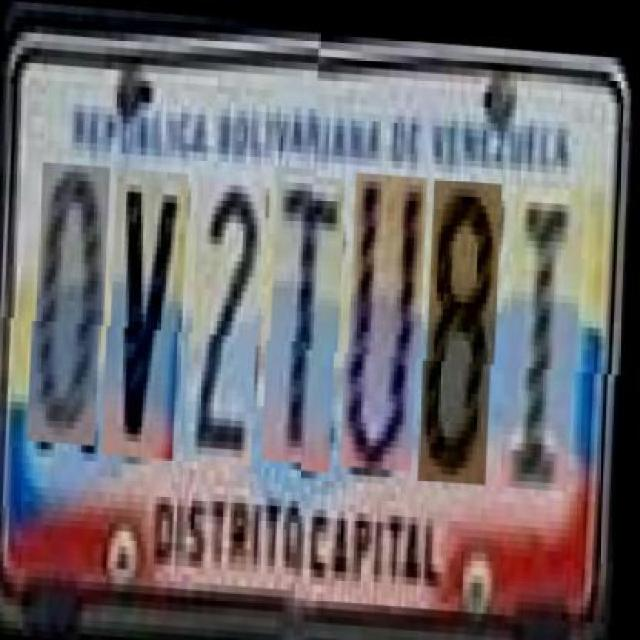2: (190, 178, 268, 470)
8: (425, 172, 504, 476)
i: (507, 177, 585, 481)
o: (34, 170, 112, 452)
t: (268, 168, 347, 467)
u: (347, 166, 428, 465)
v: (109, 173, 189, 464)
